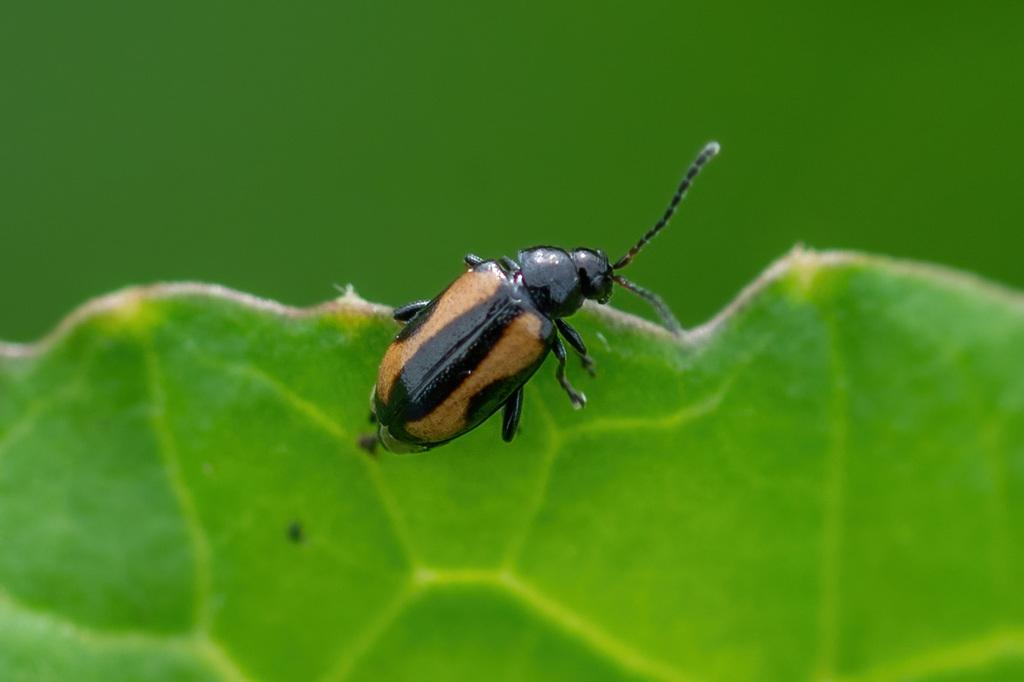flea_beetle: (309, 101, 761, 498)
